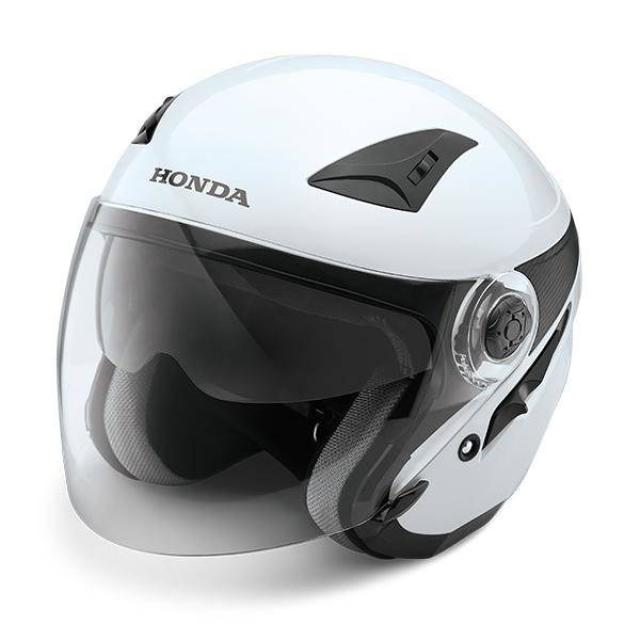Helm: (38, 46, 586, 572)
